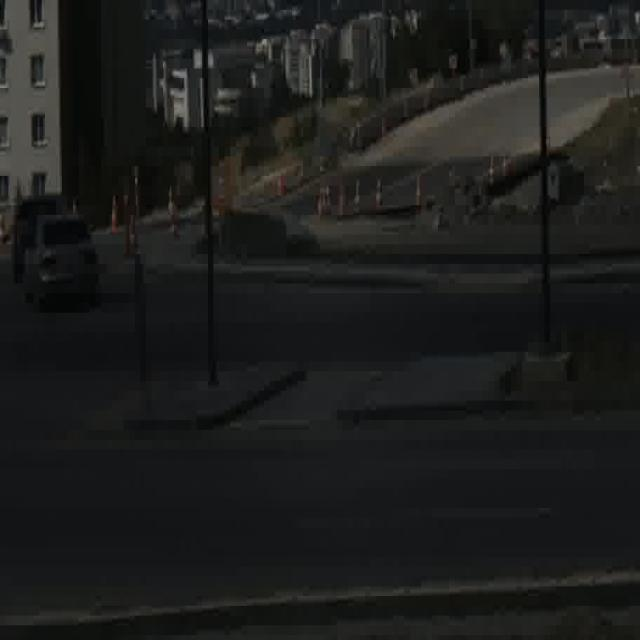Car: (23, 217, 93, 301), (15, 193, 69, 277)
